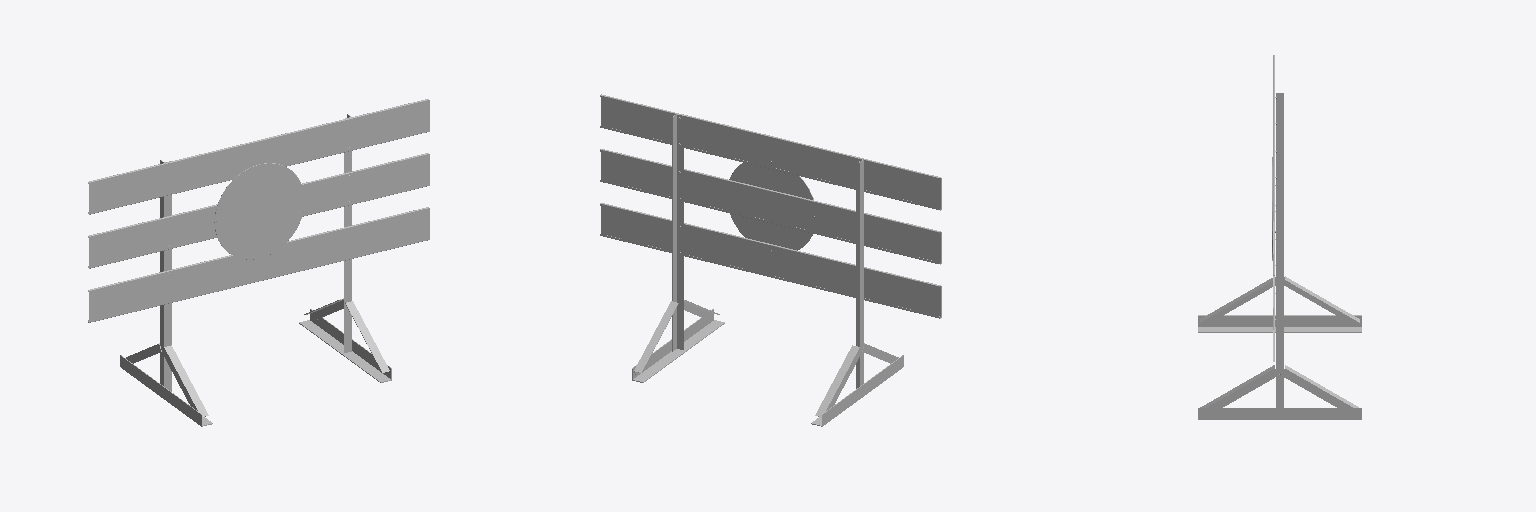
File: road-barrier-005.obj
3 renders of one model, left to right at view 1: azimuth 30°, elevation 25°; view 2: azimuth 150°, elevation 25°; view 3: azimuth 270°, elevation 25°, orthographic.
Visible parts, largest first — view 1: road-barrier-005; view 2: road-barrier-005; view 3: road-barrier-005.
Part boxes in pixels (left/top/right/bottom): road-barrier-005: left=88, top=99, right=429, bottom=426; road-barrier-005: left=600, top=94, right=941, bottom=426; road-barrier-005: left=1198, top=55, right=1361, bottom=419.
Bounding box in the file's own units: 2.4 × 1.59 × 1.